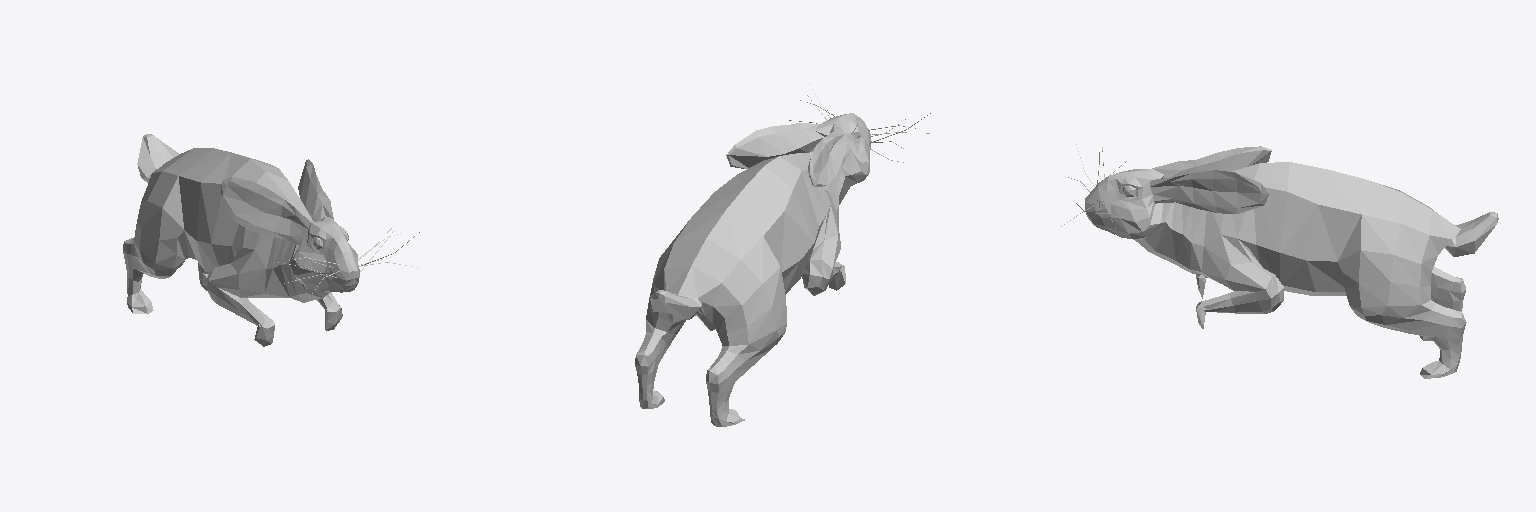
The model's file is rabbit_000002.obj.
3 views of the same model, side by side, from view 1: azimuth 30°, elevation 25°; view 2: azimuth 150°, elevation 25°; view 3: azimuth 270°, elevation 25° (orthographic).
Visible parts, largest first — view 1: Rabbit_Cylinder; view 2: Rabbit_Cylinder; view 3: Rabbit_Cylinder.
Boxes of the visible parts, x1,y1,x2,y2 form: Rabbit_Cylinder: [123, 134, 419, 346]; Rabbit_Cylinder: [635, 84, 930, 426]; Rabbit_Cylinder: [1061, 144, 1498, 378].
Bounding box in the file's own units: 6.89 × 10.6 × 20.9.